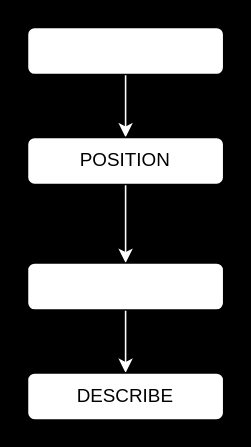
Image size: 251x447. Some labels were removed from this diagram. Here are the shapes that lost their labels. From the top down, the centre of each, then its label:
At (125,50): "DETECT".
At (125,285): "DETERMINE".
